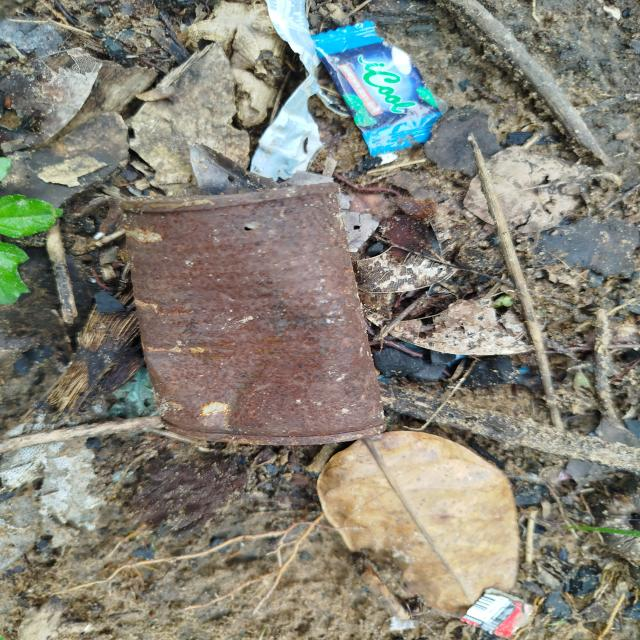metal: (79, 170, 386, 450)
residual: (296, 19, 455, 156)
